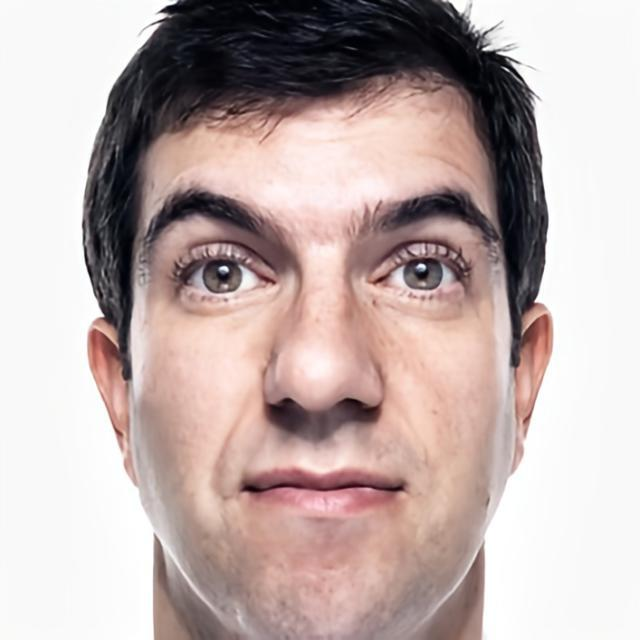content: (126, 59, 512, 640)
